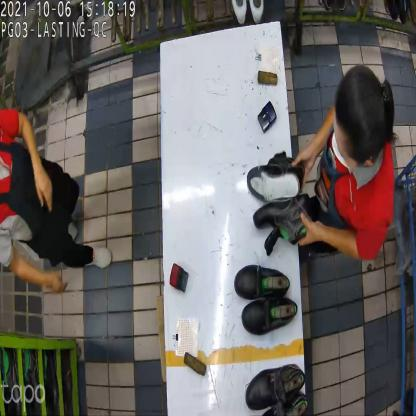shoes: (242, 150, 312, 260), (232, 258, 298, 334), (241, 360, 309, 415)
stamp: (170, 263, 192, 296), (257, 101, 277, 135)
